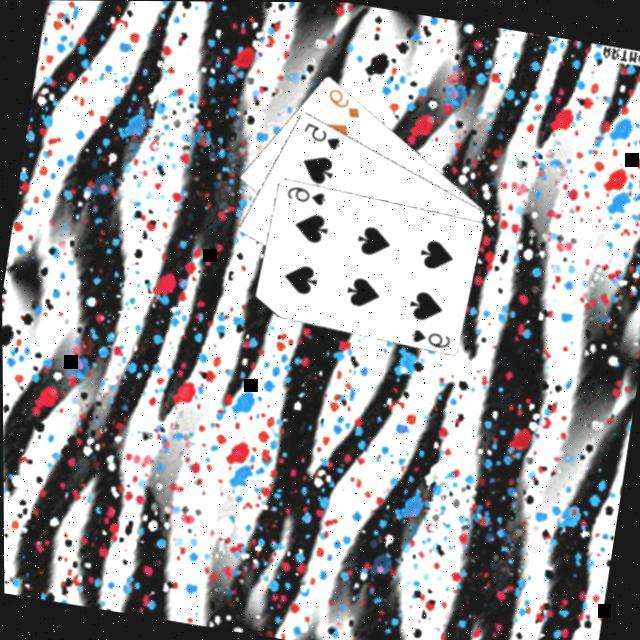5S: (296, 120, 344, 155)
6S: (281, 183, 328, 210), (405, 326, 452, 353)
9D: (320, 84, 365, 122)
